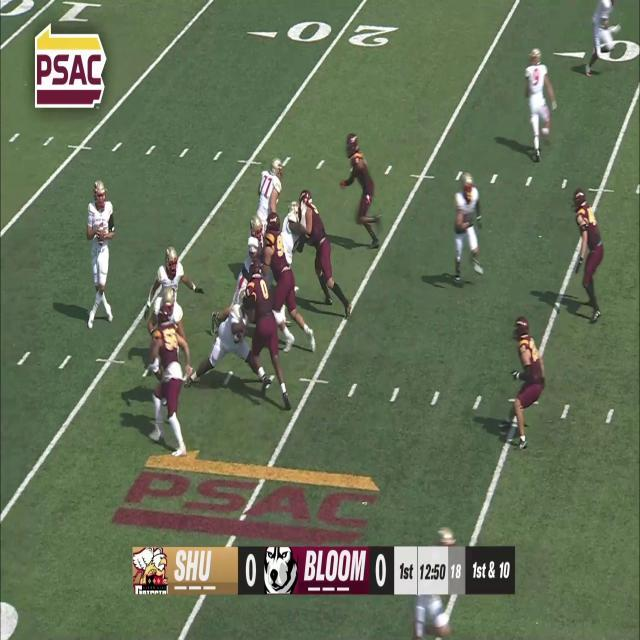football: (96, 226, 105, 246)
